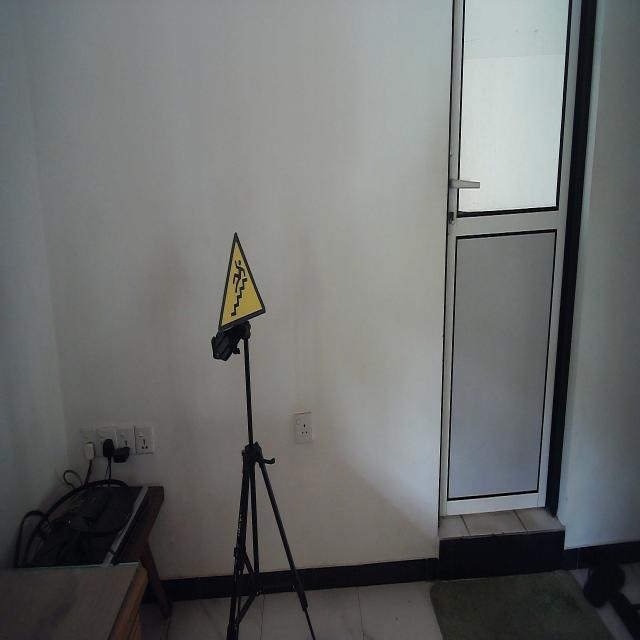stairs: (218, 228, 267, 334)
